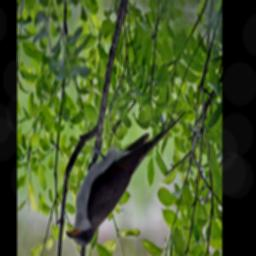Cuckoo: (64, 105, 185, 246)
